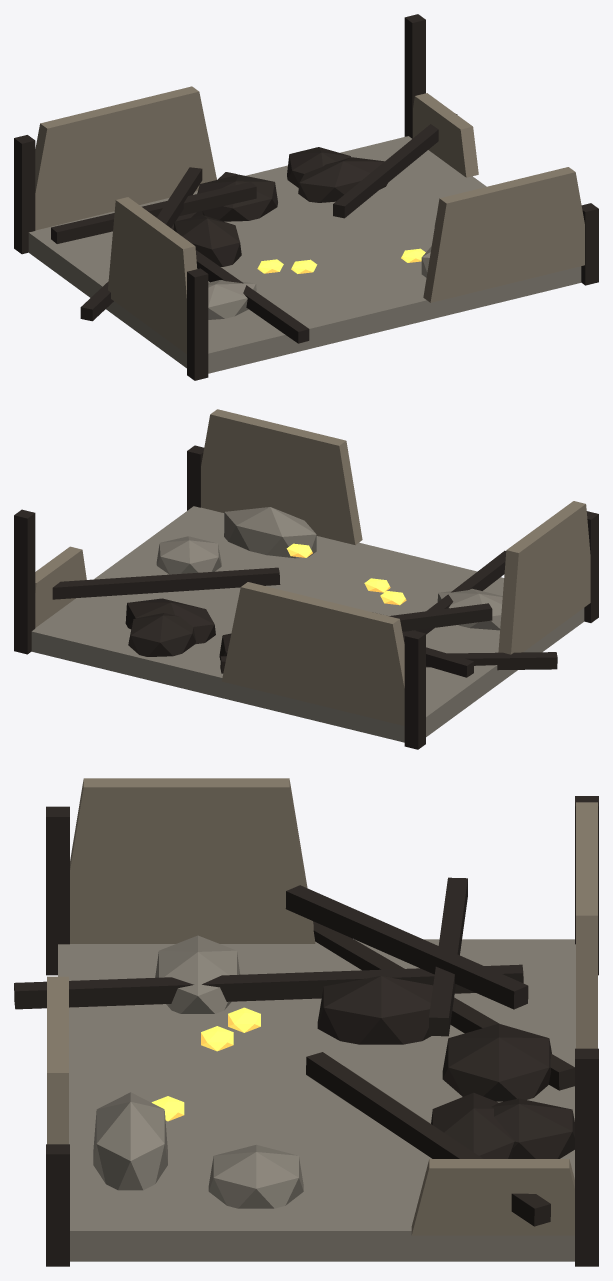
Rendered from Dorf_Hofhaus_Ruine.fbx.
The picture shows the model from 3 angles, top to bottom: view 1: azimuth 30°, elevation 25°; view 2: azimuth 150°, elevation 25°; view 3: azimuth 270°, elevation 25°; orthographic projection. The views are drawn at different scales.
Visible parts, largest first — view 1: Dorf_Hofhaus_Ruine; view 2: Dorf_Hofhaus_Ruine; view 3: Dorf_Hofhaus_Ruine.
Part boxes in pixels (left/top/right/bottom): Dorf_Hofhaus_Ruine: left=14, top=14, right=598, bottom=380; Dorf_Hofhaus_Ruine: left=14, top=409, right=598, bottom=749; Dorf_Hofhaus_Ruine: left=14, top=778, right=598, bottom=1266.
Bounding box in the file's own units: 8.1 × 2.42 × 5.85.
